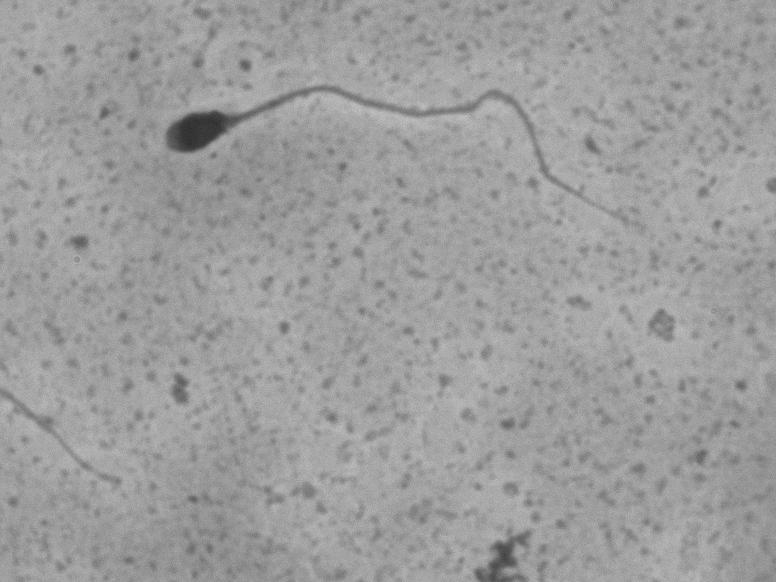Abnormal: (123, 69, 658, 243)
